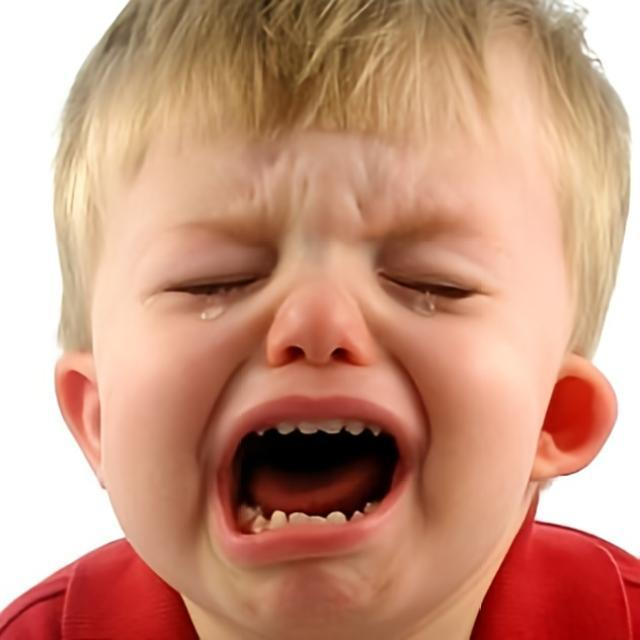sad: (92, 51, 578, 640)
